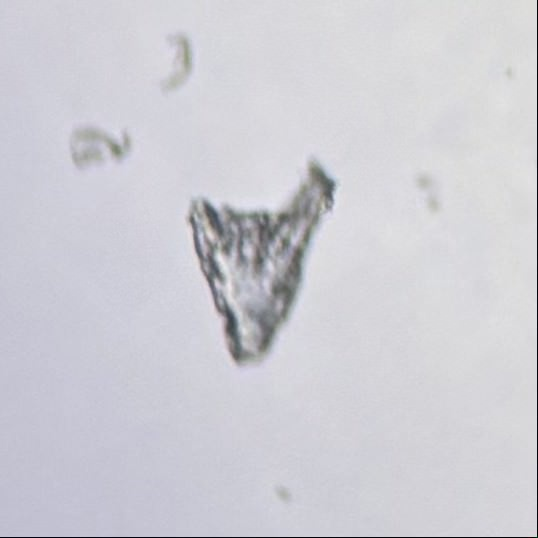microplastic: (182, 152, 347, 368)
